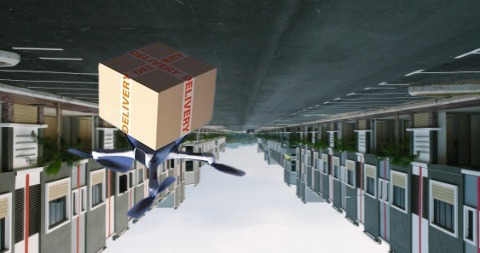drone: (68, 40, 245, 220)
